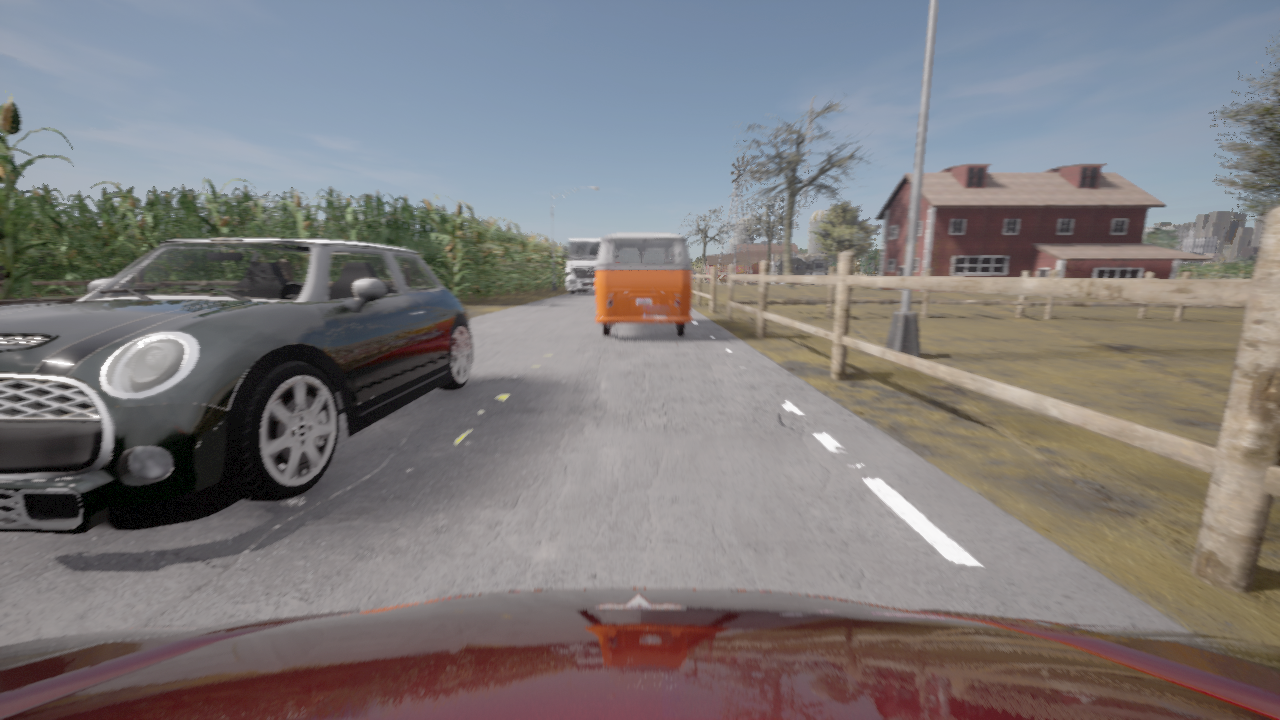cyclist: (0, 588, 1279, 719), (0, 238, 473, 534), (596, 233, 691, 335), (562, 237, 602, 293)
